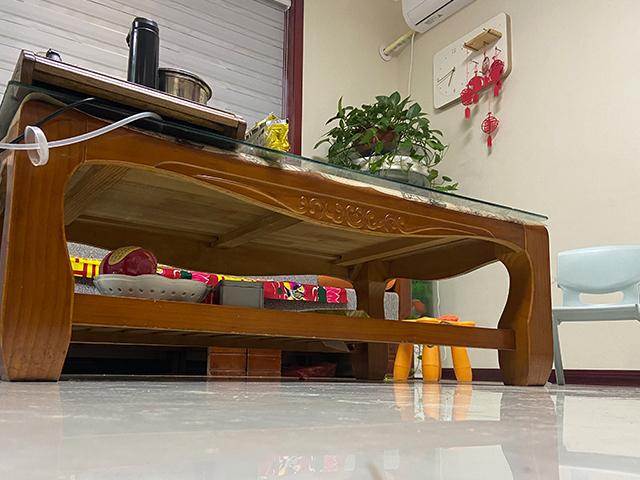stool: (550, 245, 640, 387), (391, 315, 476, 387)
table: (1, 77, 556, 388)
